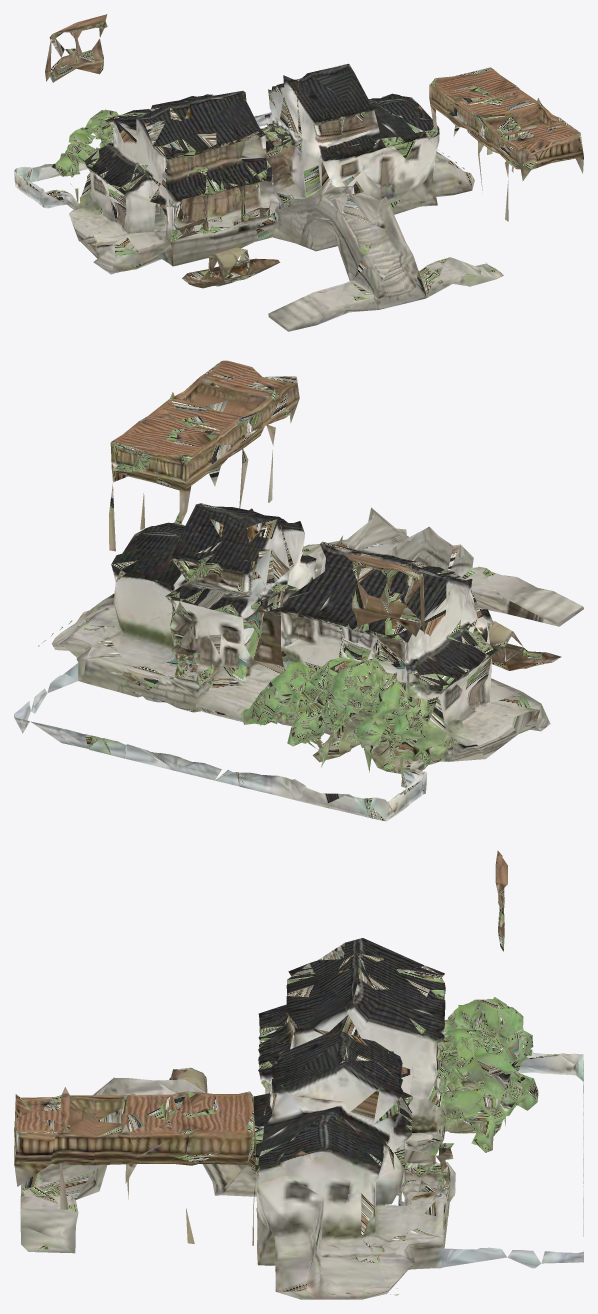
The model's file is bq_canal_house.lod1.glb.
3 renders of one model, top to bottom at view 1: azimuth 30°, elevation 25°; view 2: azimuth 150°, elevation 25°; view 3: azimuth 270°, elevation 25°, orthographic. The views are drawn at different scales.
Bounding box in the file's own units: 1.88 × 0.8597 × 1.9.
Materials: 1 (1 with a texture image).
